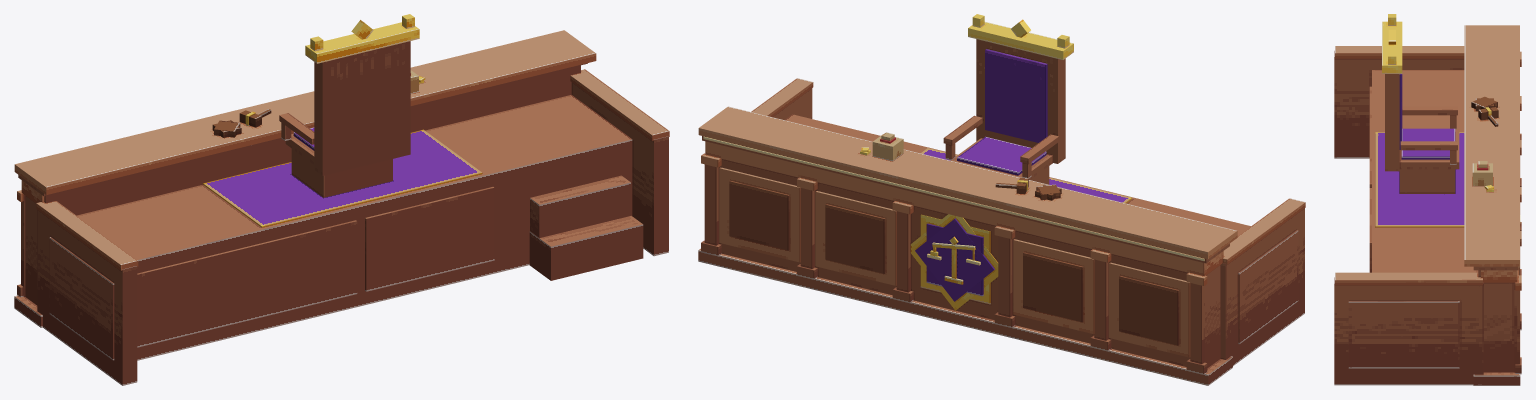
Rendered from judge_stand.gltf.
3 renders of one model, left to right at view 1: azimuth 30°, elevation 25°; view 2: azimuth 150°, elevation 25°; view 3: azimuth 270°, elevation 25°, orthographic. The views are drawn at different scales.
Visible parts, largest first — view 1: dais, top, dais_back_panel_a, front_body, throne_back, dais_back_panel_b, carpet, side_wall_left, side_panel_left, step_low, side_wall_right, step_high (+5 smaller); view 2: top, front_body, plinth, frieze, cushion_back, side_wall_left, side_panel_left, throne_back, panel_field_1_165_left, panel_field_2_295_right, panel_field_1_165_right, panel_field_2_295_left (+25 smaller); view 3: top, dais, side_wall_right, side_panel_right, side_wall_left, carpet, front_body, side_cap_right, throne_back, side_cap_left, throne_base, cushion_seat (+14 smaller).
Boxes of the visible parts, x1,y1,x2,y2 form: dais: (77, 95, 632, 360); top: (14, 30, 596, 194); dais_back_panel_a: (137, 220, 357, 347); front_body: (25, 65, 580, 305); throne_back: (314, 41, 410, 175); dais_back_panel_b: (365, 187, 494, 291); carpet: (203, 129, 482, 227); side_wall_left: (37, 210, 137, 385); side_panel_left: (49, 237, 114, 360); step_low: (529, 215, 643, 280); side_wall_right: (571, 82, 668, 256); step_high: (530, 175, 630, 237); top: (698, 106, 1237, 259); front_body: (719, 159, 1220, 368); plinth: (698, 248, 1232, 385); frieze: (705, 141, 1223, 276); cushion_back: (985, 49, 1047, 142); side_wall_left: (1220, 208, 1304, 365); side_panel_left: (1238, 230, 1298, 344); throne_back: (976, 39, 1065, 163); panel_field_1_165_left: (1023, 252, 1083, 322); panel_field_2_295_right: (729, 180, 789, 250); panel_field_1_165_right: (825, 204, 885, 273); panel_field_2_295_left: (1119, 276, 1179, 345); top: (1464, 25, 1519, 266); dais: (1372, 70, 1478, 272); side_wall_right: (1334, 277, 1483, 385); side_panel_right: (1348, 301, 1459, 368); side_wall_left: (1334, 50, 1464, 158); carpet: (1375, 132, 1464, 227); front_body: (1478, 270, 1514, 372); side_cap_right: (1335, 272, 1482, 285); throne_back: (1385, 74, 1399, 171); side_cap_left: (1335, 46, 1464, 58); throne_base: (1399, 169, 1455, 193); cushion_seat: (1401, 128, 1455, 159).
Bounding box in the file's own units: 6.01 × 2.86 × 2.02.
4 materials, 4 textured.
